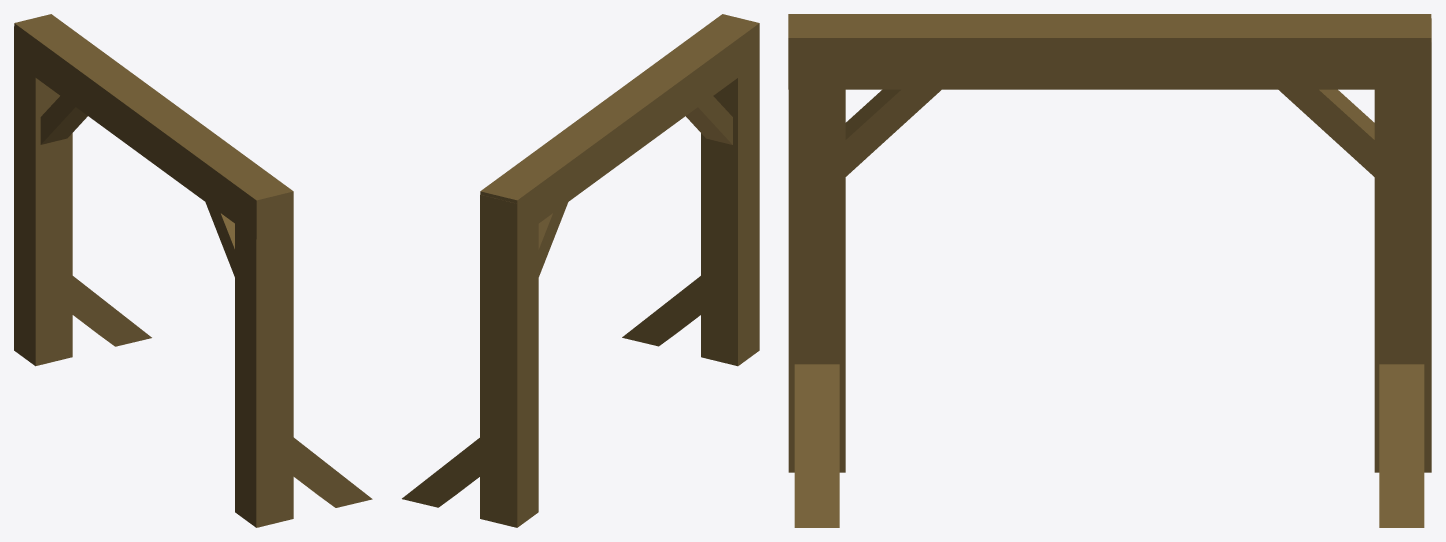
File: Gate Frame.fbx
The picture shows the model from 3 angles, left to right: view 1: azimuth 30°, elevation 25°; view 2: azimuth 150°, elevation 25°; view 3: azimuth 270°, elevation 25°; orthographic projection. The views are drawn at different scales.
Visible parts, largest first — view 1: pCube4, pCube1, pasted__pCube1, pasted__pCube2, pCube2, pasted__pCube3, pCube3; view 2: pasted__pCube1, pCube4, pCube1, pCube2, pasted__pCube2, pCube3, pasted__pCube3; view 3: pCube4, pCube1, pasted__pCube1, pCube2, pasted__pCube2, pCube3, pasted__pCube3.
Boxes of the visible parts, left/top/right/bottom form: pCube4: left=14, top=14, right=293, bottom=239; pCube1: left=235, top=189, right=293, bottom=527; pasted__pCube1: left=14, top=26, right=72, bottom=366; pasted__pCube2: left=72, top=276, right=151, bottom=346; pCube2: left=293, top=437, right=372, bottom=507; pasted__pCube3: left=40, top=96, right=87, bottom=144; pCube3: left=205, top=202, right=234, bottom=276; pasted__pCube1: left=480, top=188, right=538, bottom=527; pCube4: left=480, top=14, right=759, bottom=238; pCube1: left=701, top=30, right=759, bottom=366; pCube2: left=622, top=276, right=700, bottom=346; pasted__pCube2: left=402, top=438, right=479, bottom=507; pCube3: left=686, top=96, right=732, bottom=144; pasted__pCube3: left=538, top=202, right=568, bottom=276; pCube4: left=788, top=14, right=1431, bottom=89; pCube1: left=788, top=42, right=845, bottom=472; pasted__pCube1: left=1374, top=18, right=1431, bottom=472; pCube2: left=794, top=364, right=839, bottom=527; pasted__pCube2: left=1379, top=364, right=1424, bottom=527; pCube3: left=845, top=89, right=941, bottom=176; pasted__pCube3: left=1278, top=89, right=1374, bottom=176.
Size of the model in its own units: 3.19 by 8.47 by 11.3.
